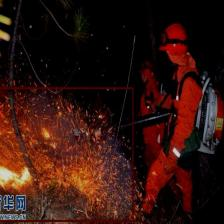fire: (0, 87, 133, 221)
